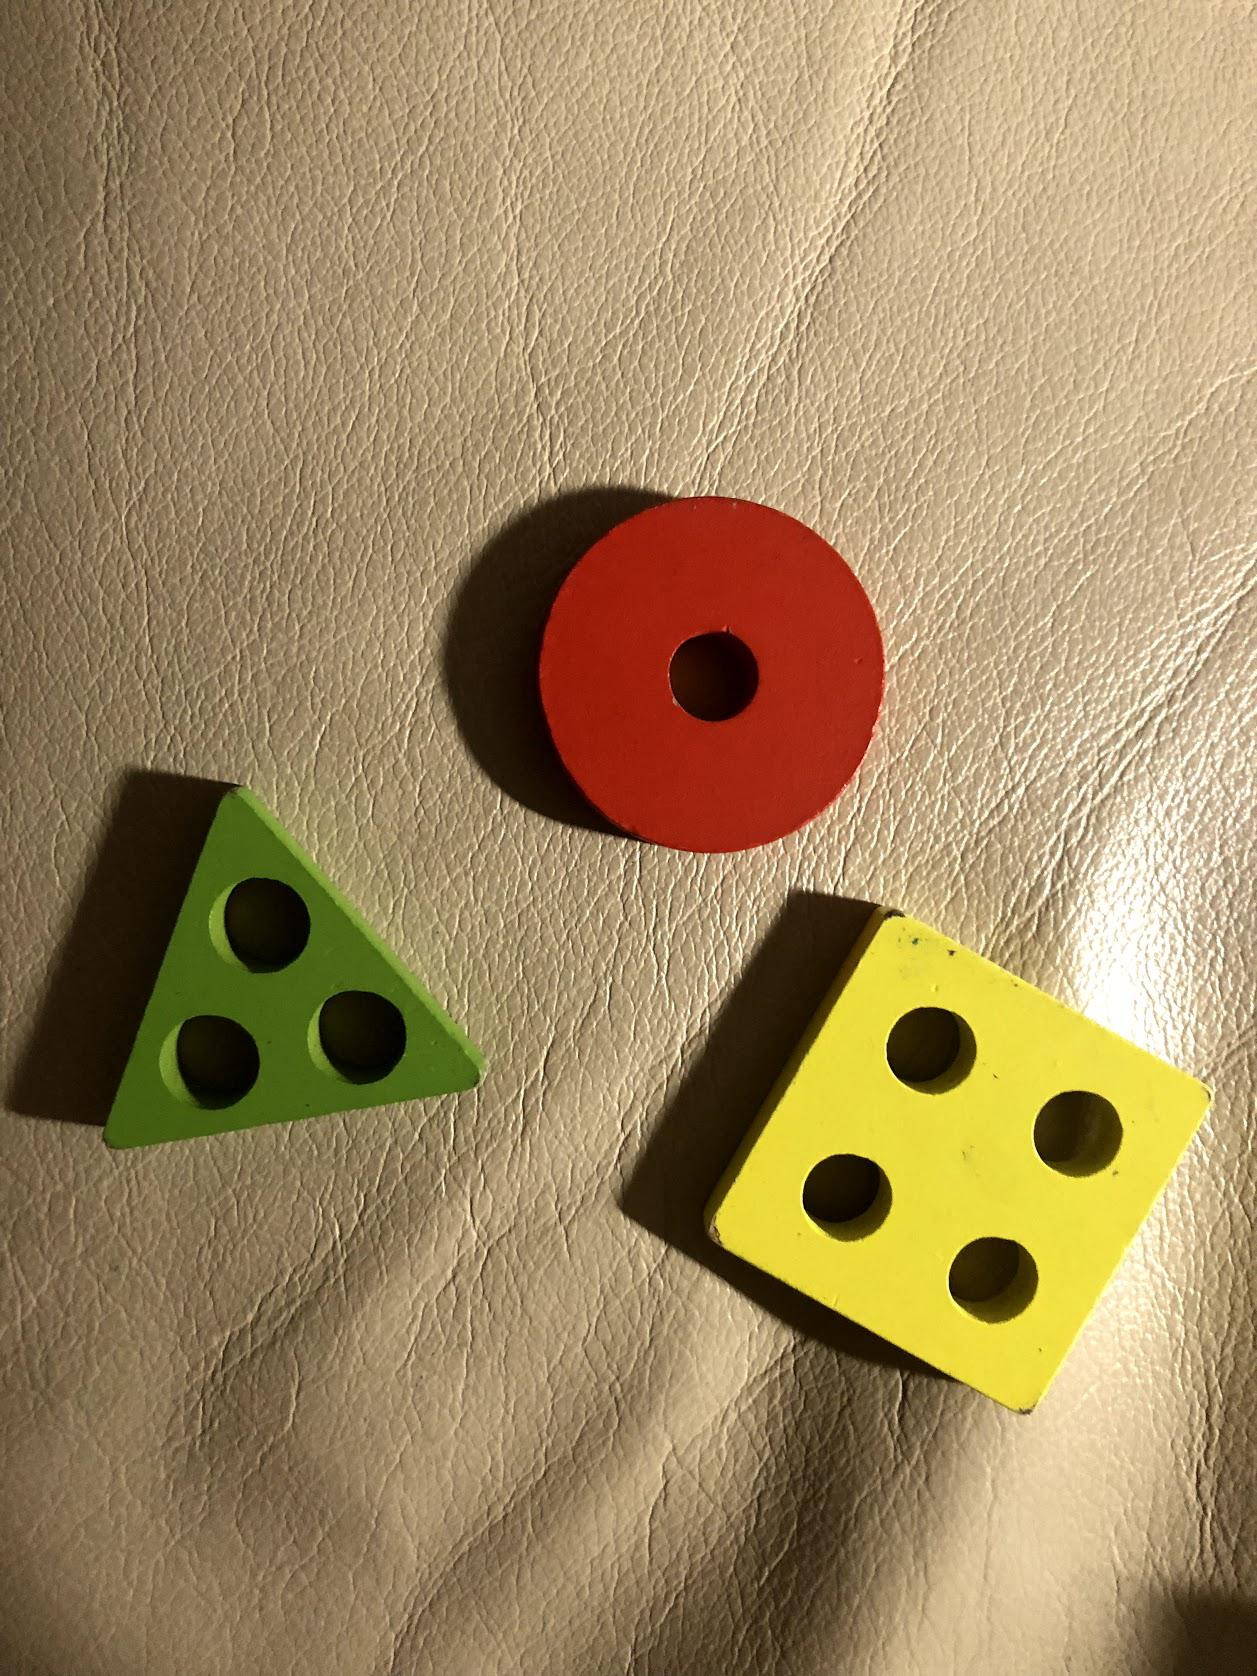Circle: (528, 490, 889, 853)
Square: (708, 912, 1213, 1413)
Triangle: (88, 785, 487, 1145)
